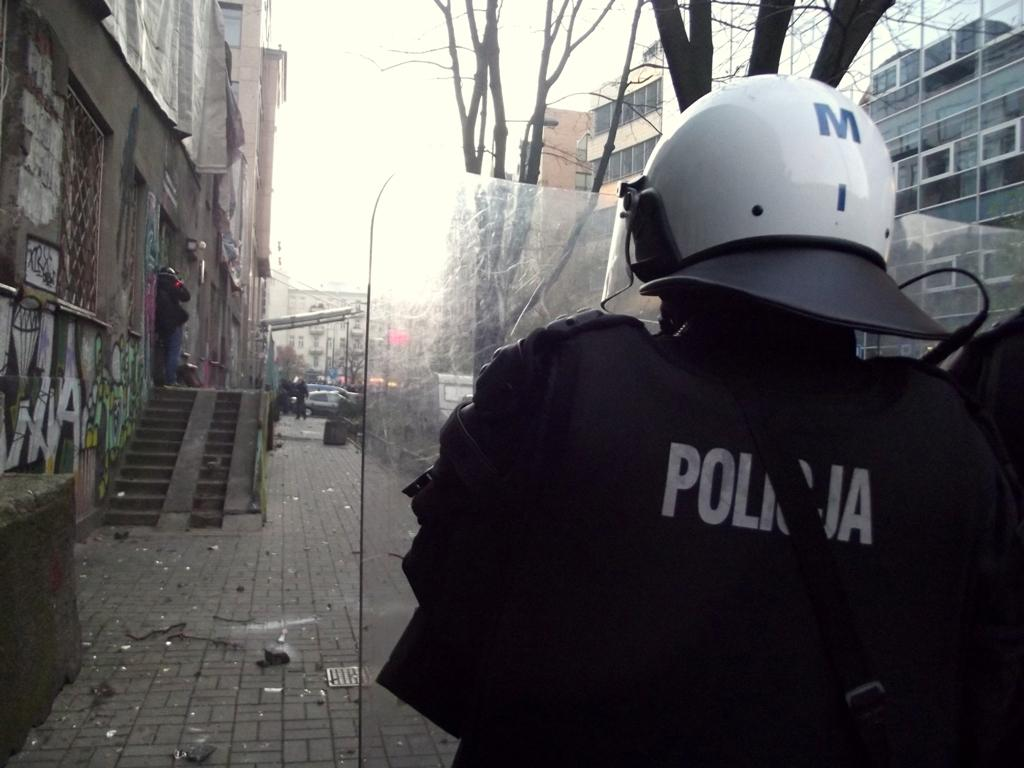helmet: (600, 74, 896, 325)
